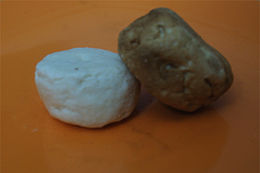cheese: (125, 6, 230, 117), (32, 35, 143, 125)
